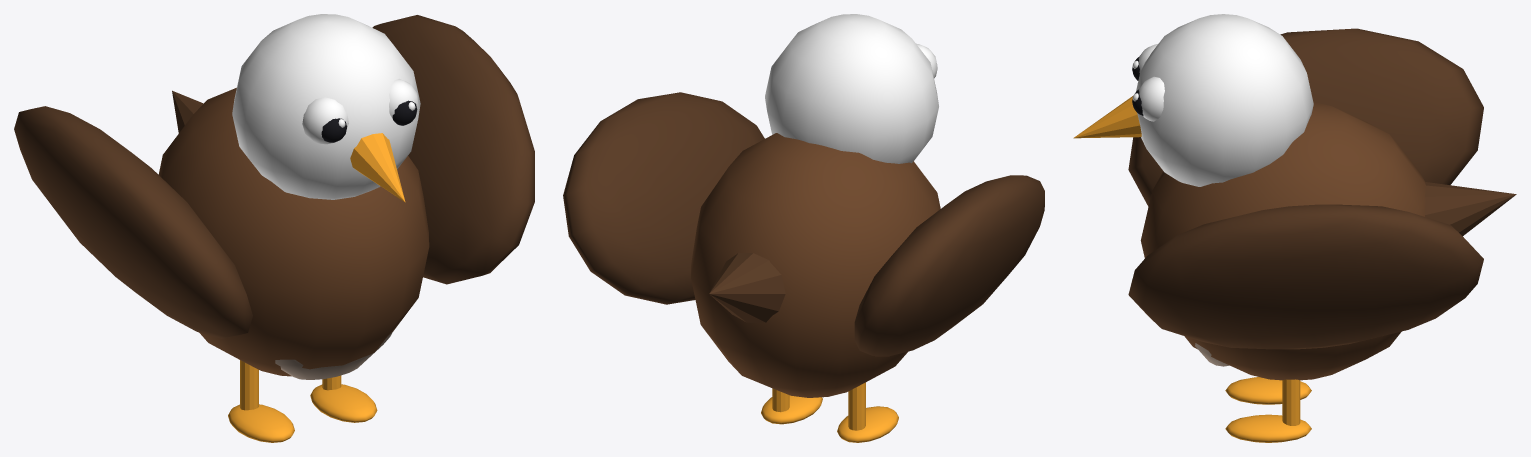
3 views of the same model, side by side, from view 1: azimuth 30°, elevation 25°; view 2: azimuth 150°, elevation 25°; view 3: azimuth 270°, elevation 25° (orthographic). The views are drawn at different scales.
Parts seen in each view (by area): view 1: Eagle; view 2: Eagle; view 3: Eagle.
Part boxes in pixels (x1,y1,x2,y2): Eagle: (14,14,534,442); Eagle: (563,14,1044,442); Eagle: (1073,14,1516,442).
Size of the model in its own units: 3.07 by 2.9 by 2.95.
Materials: 1 (1 with a texture image).
